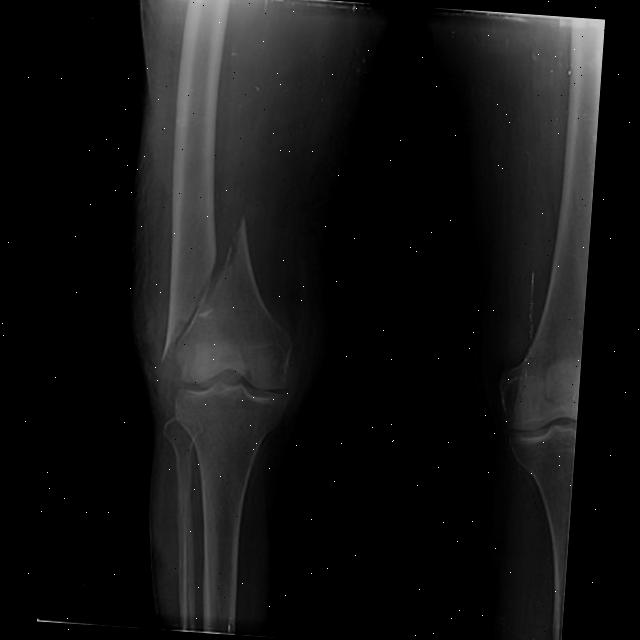Fracture: (157, 207, 245, 362)
